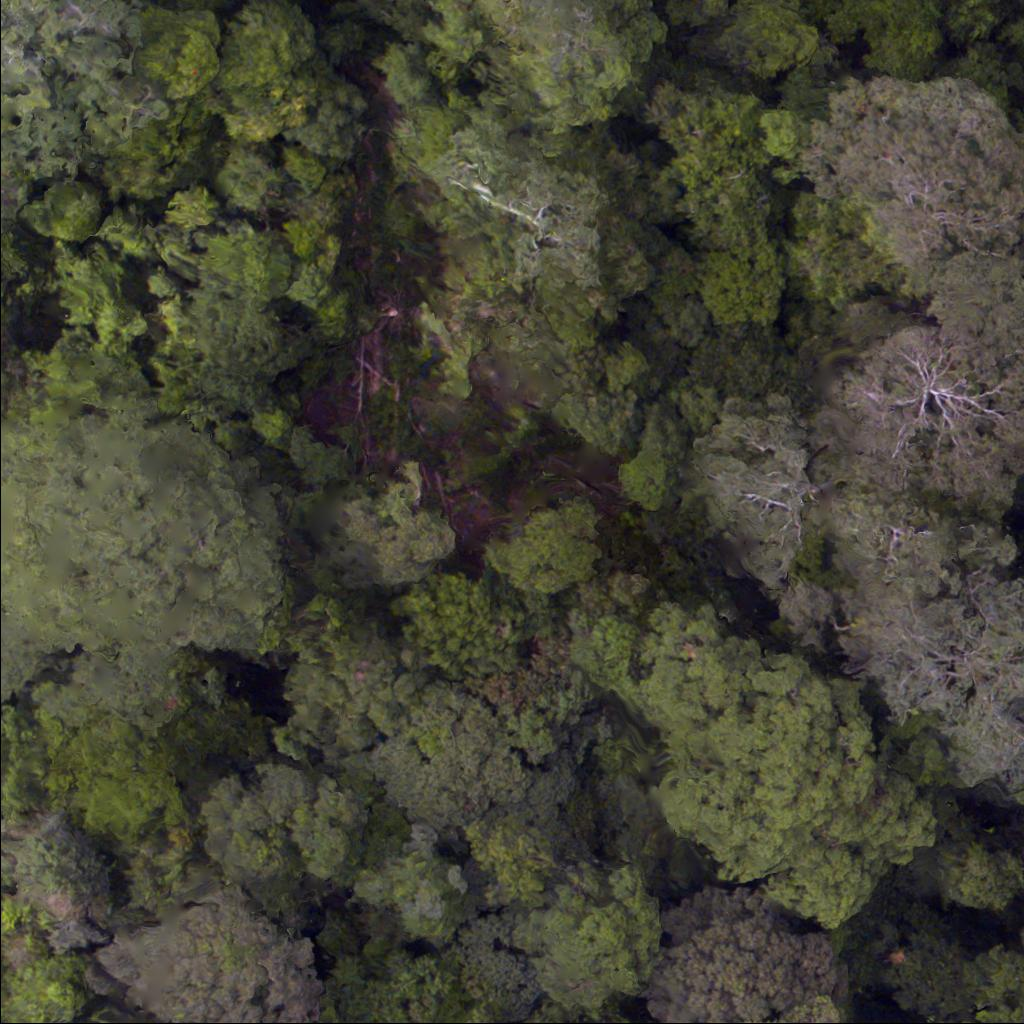crown: (579, 610, 933, 922), (830, 72, 1023, 270), (857, 574, 1023, 779), (840, 325, 1023, 503), (94, 885, 324, 1023), (201, 765, 377, 915), (370, 684, 528, 844), (653, 895, 844, 1023), (512, 852, 661, 1014), (819, 493, 974, 602), (0, 815, 116, 952), (354, 826, 480, 949), (325, 936, 498, 1023), (920, 247, 1023, 373), (461, 911, 537, 1023), (974, 968, 1023, 1023), (777, 1001, 842, 1023), (311, 1008, 348, 1023)
